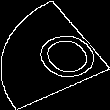O_SE: (11, 21, 99, 89)
